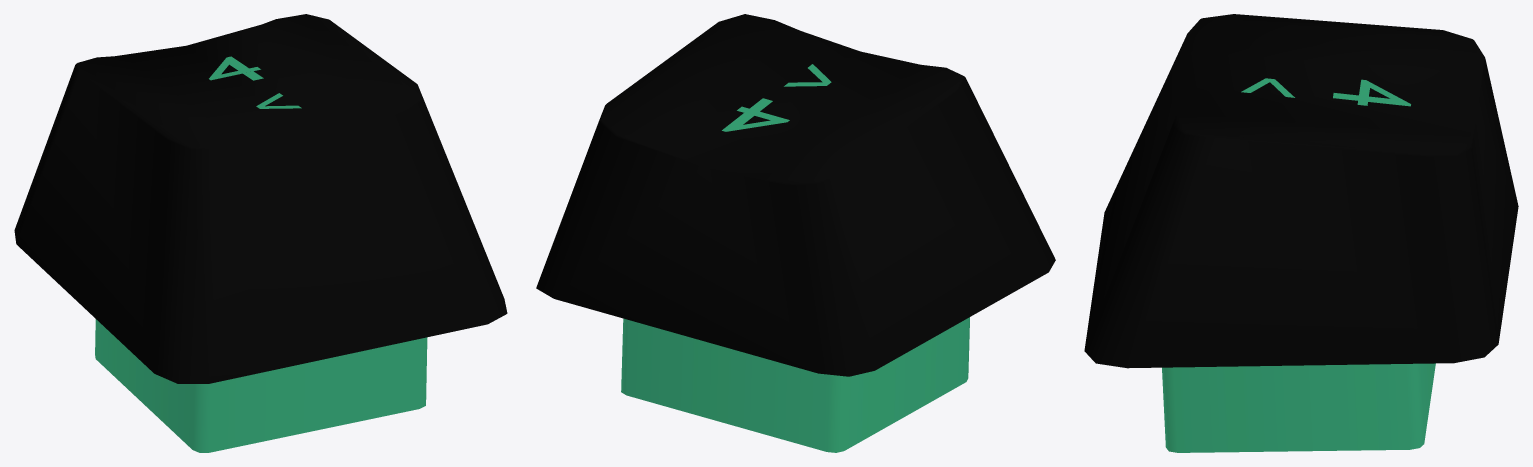
Rendered from key_4-BrqVI0dv.glb.
The picture shows the model from 3 angles, left to right: view 1: azimuth 30°, elevation 25°; view 2: azimuth 150°, elevation 25°; view 3: azimuth 270°, elevation 25°; orthographic projection. The views are drawn at different scales.
Visible parts, largest first — view 1: StudyShelf_1245; view 2: StudyShelf_1245; view 3: StudyShelf_1245.
Part boxes in pixels (box(x1,y1,x2,y2)): StudyShelf_1245: box(14, 14, 507, 452); StudyShelf_1245: box(536, 14, 1055, 452); StudyShelf_1245: box(1084, 14, 1518, 452).
Bounding box in the file's own units: 4.35 × 3.55 × 4.35.
2 materials, 1 textured.
